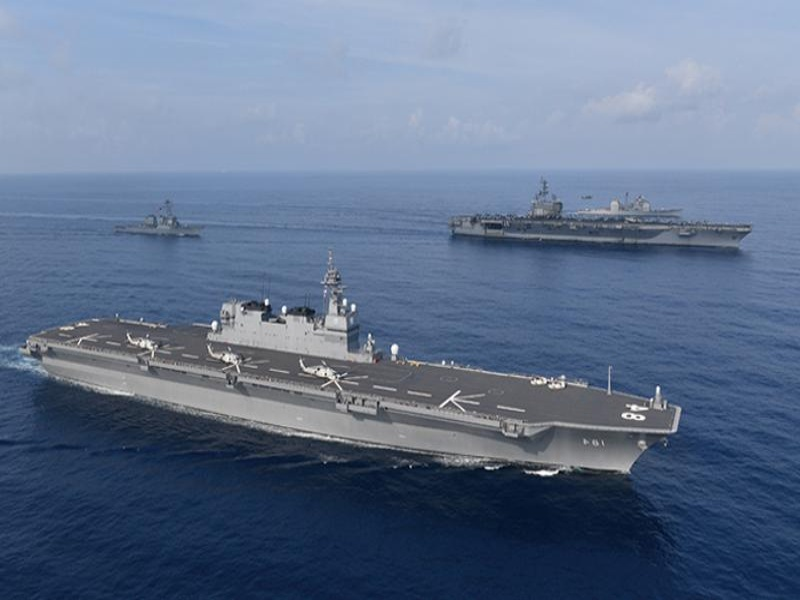carrier: (12, 269, 681, 472), (448, 175, 754, 259)
cruise: (115, 198, 208, 239)
